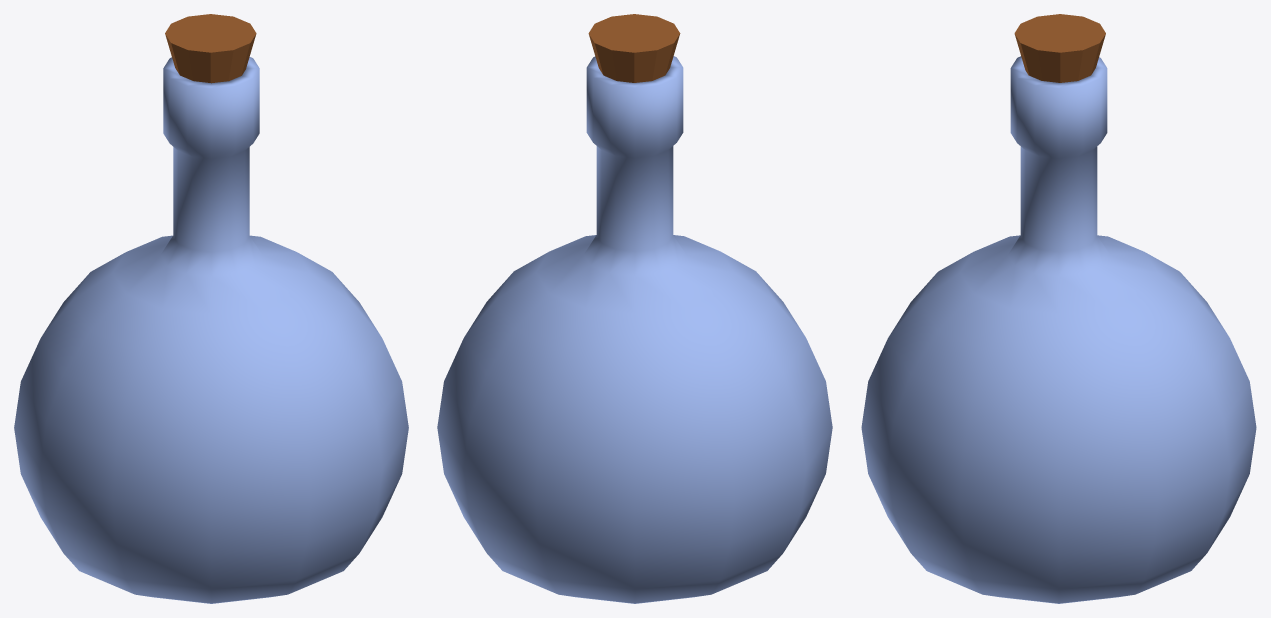
Rendered from Witch_Potion.fbx.
The picture shows the model from 3 angles, left to right: view 1: azimuth 30°, elevation 25°; view 2: azimuth 150°, elevation 25°; view 3: azimuth 270°, elevation 25°; orthographic projection.
Visible parts, largest first — view 1: potion; view 2: potion; view 3: potion.
Part boxes in pixels (<box>): potion: <box>14,14,408,603</box>; potion: <box>437,14,832,603</box>; potion: <box>861,14,1256,603</box>.
Bounding box in the file's own units: 47.81 × 69.55 × 47.81.
